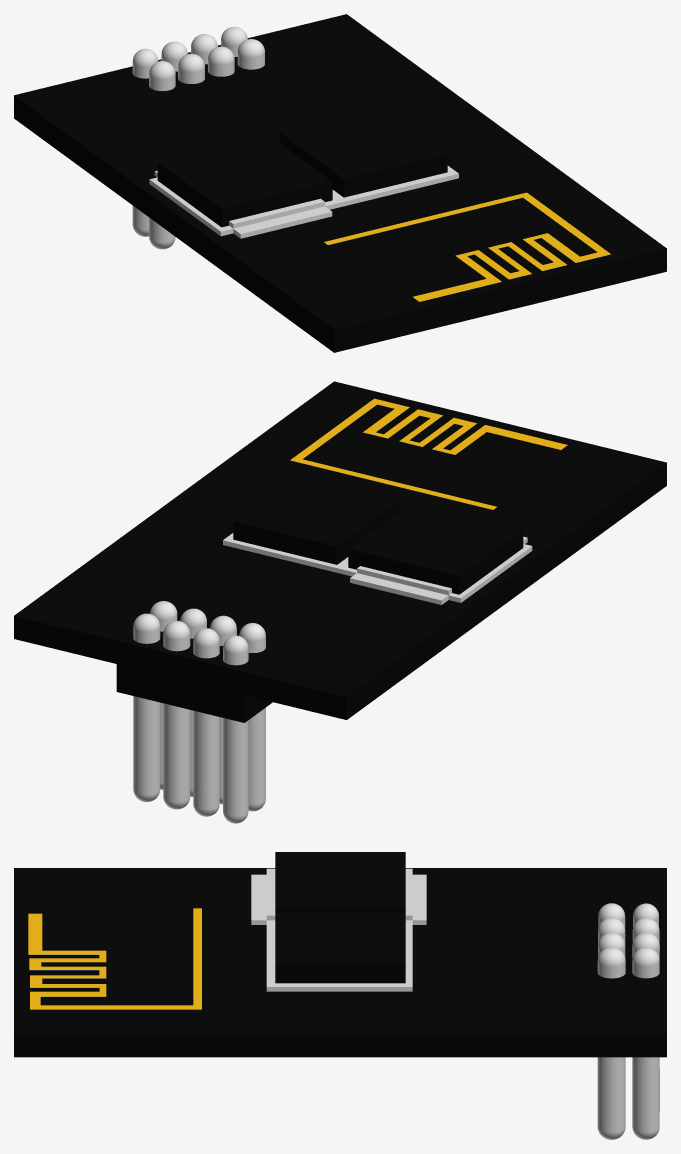
File: modulo_wifi.dae
The picture shows the model from 3 angles, top to bottom: view 1: azimuth 30°, elevation 25°; view 2: azimuth 150°, elevation 25°; view 3: azimuth 270°, elevation 25°; orthographic projection.
Parts seen in each view (by area): view 1: ID2; view 2: ID2; view 3: ID2.
Part boxes in pixels (x1=…): ID2: x1=14, y1=14, x2=666, y2=352; ID2: x1=14, y1=381, x2=666, y2=823; ID2: x1=14, y1=852, x2=666, y2=1139.
Size of the model in its own units: 0.015 by 0.025 by 0.008.
